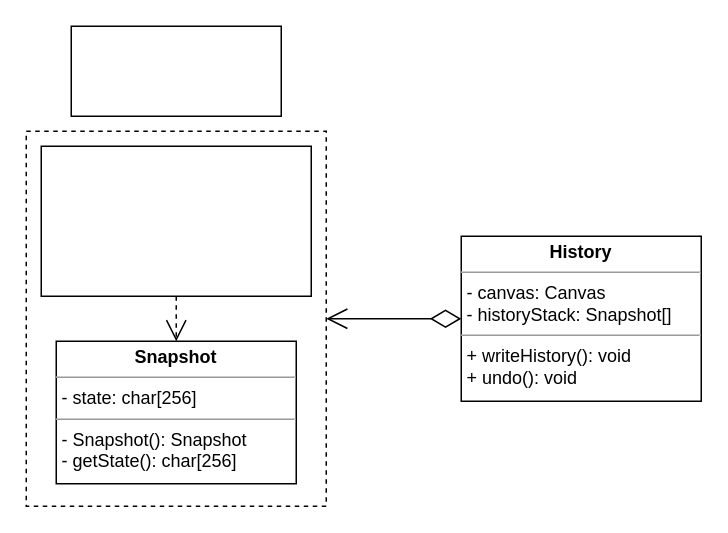
The diagram is 728 pixels wide and 533 high, and some of its shapes have lost their labels. The shapes that lost their labels are listed below. From the top down, each one's box as (x1, y1, x2, y2) in pixels, then its label:
(70, 25, 281, 116): Snapshot is a nested class inside Canvas
(40, 145, 311, 296): Canvas - state: char[256] + save(): Snapshot + restore(Snapshot): void
